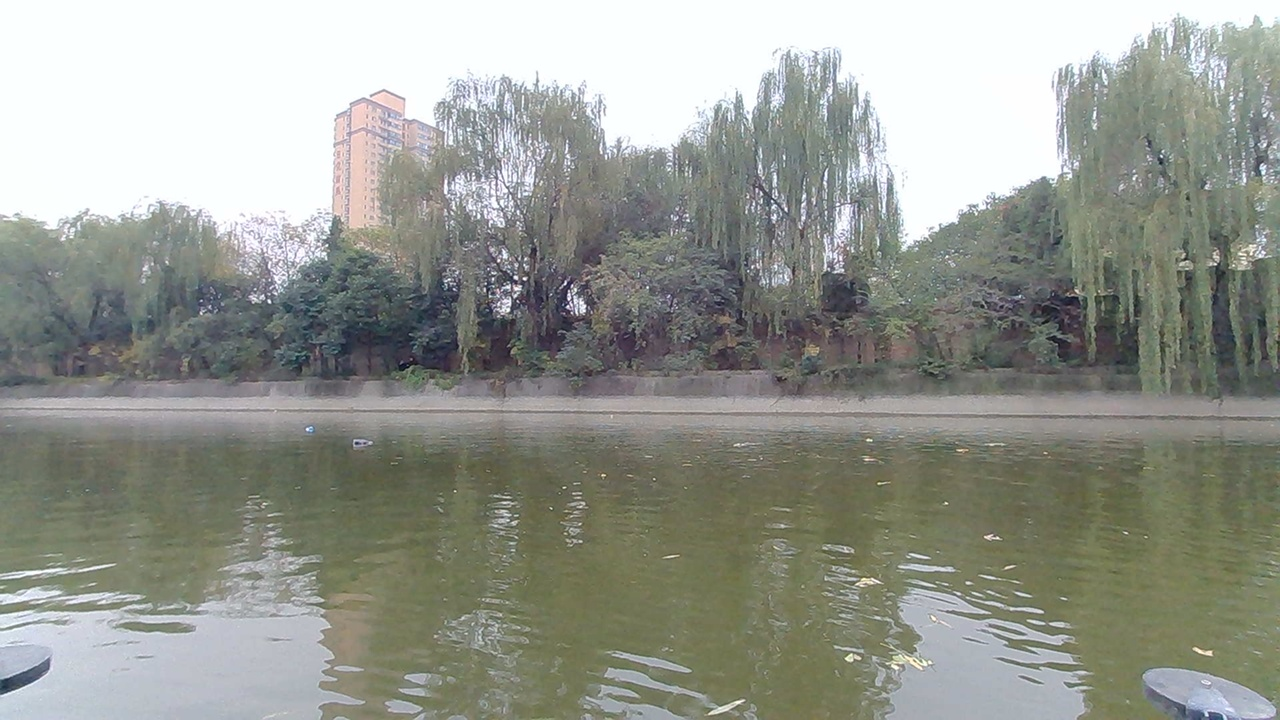bottle: (343, 429, 387, 457), (293, 415, 326, 439)
